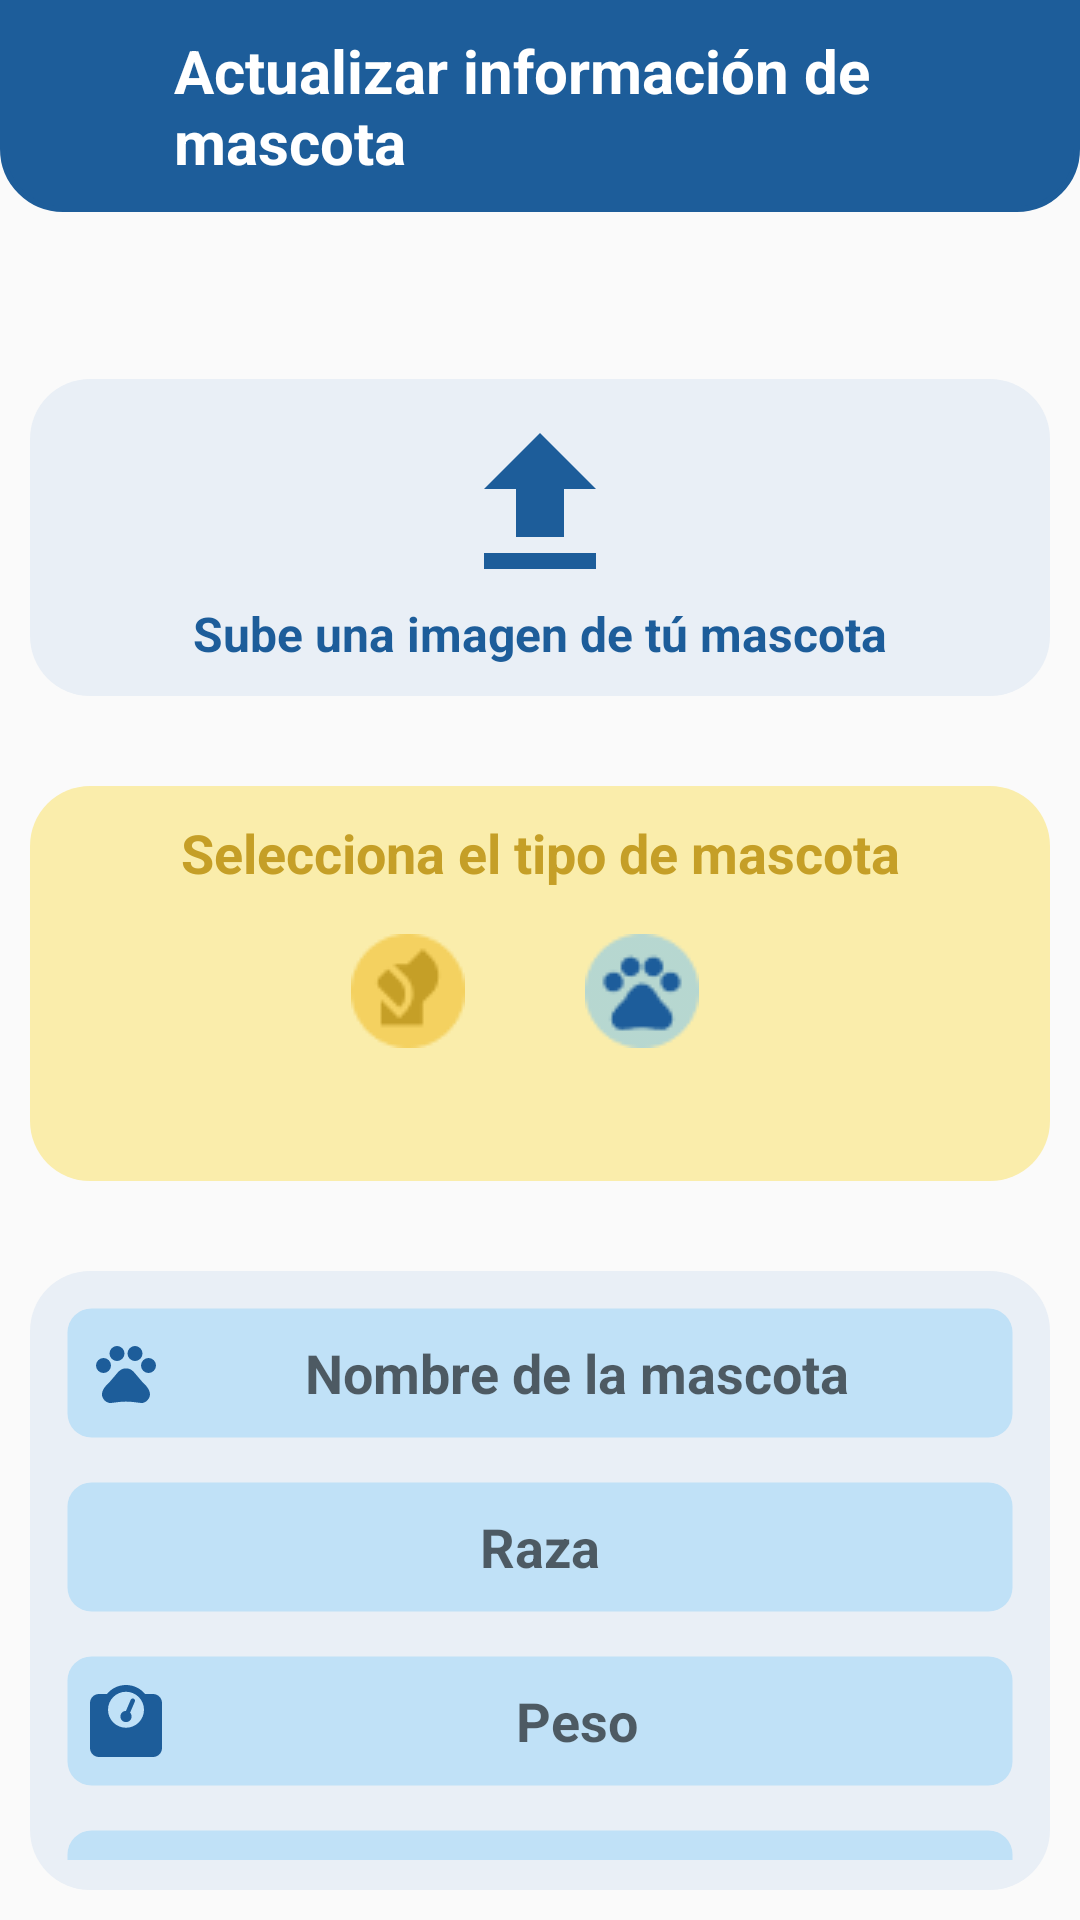

Icon bounding boxes for this 1080w x 1920h phone screenshot, format BBox(x1, y1, x2, y2):
File upload icon: BBox(484, 433, 596, 569)
